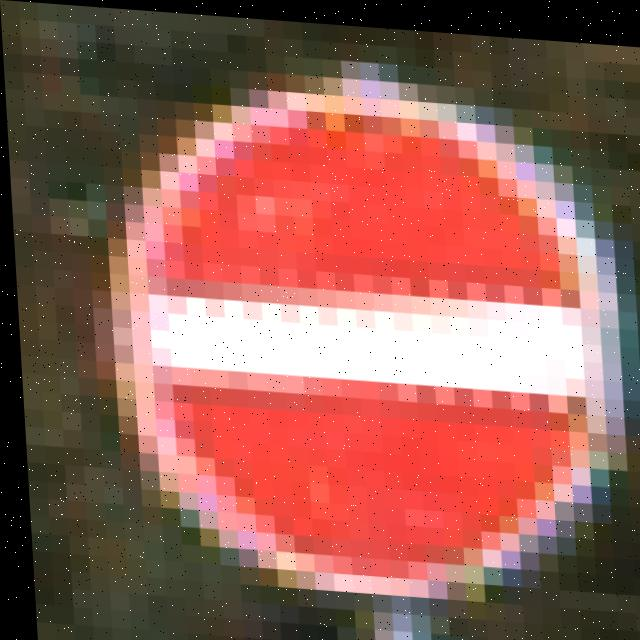road_rough: (63, 29, 633, 617)
